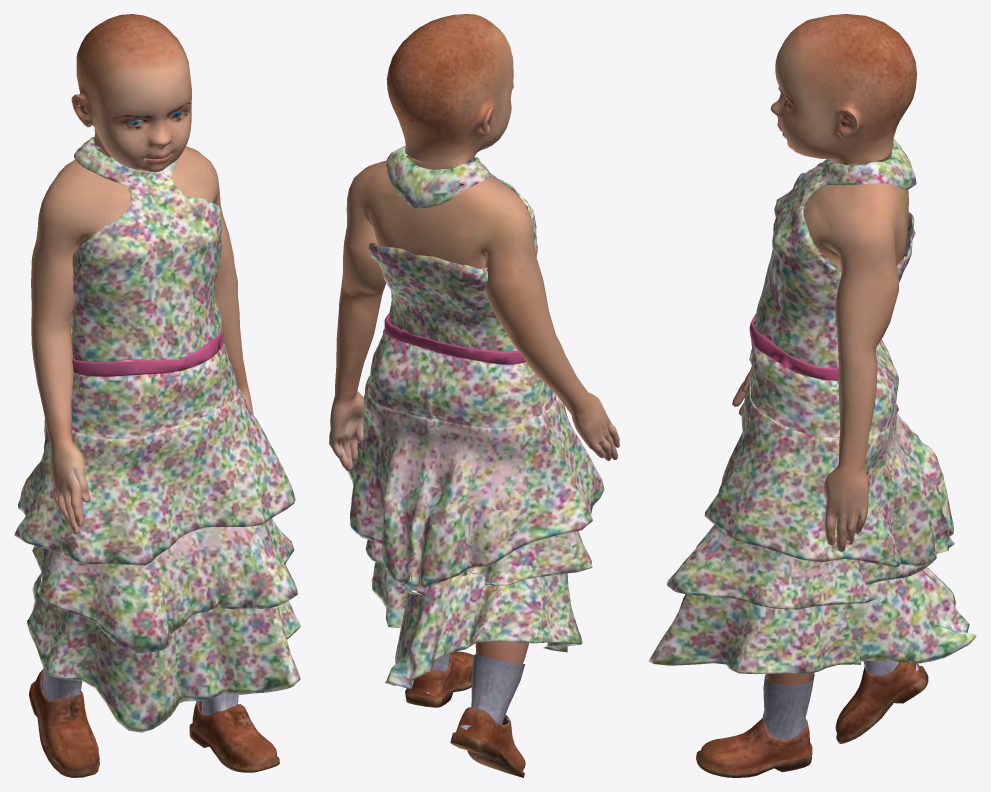
3 views of the same model, side by side, from view 1: azimuth 30°, elevation 25°; view 2: azimuth 150°, elevation 25°; view 3: azimuth 270°, elevation 25° (orthographic).
Visible parts, largest first — view 1: p04280; view 2: p04280; view 3: p04280.
Part boxes in pixels (x1,y1,x2,y2): p04280: (14,14,300,777); p04280: (329,14,619,777); p04280: (648,14,976,777).
Size of the model in its own units: 0.3844 by 1.09 by 0.4362.
1 material, 1 textured.
